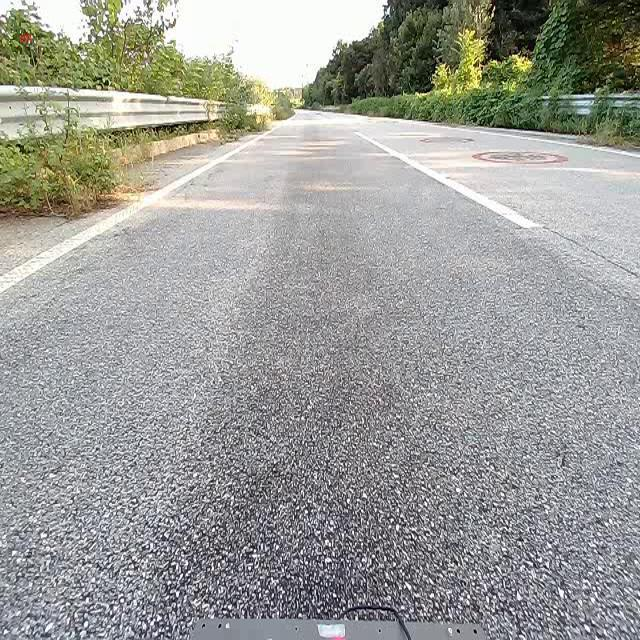Lane: (0, 122, 282, 298), (0, 129, 272, 298), (0, 133, 268, 295), (340, 122, 540, 242), (358, 132, 543, 229)
